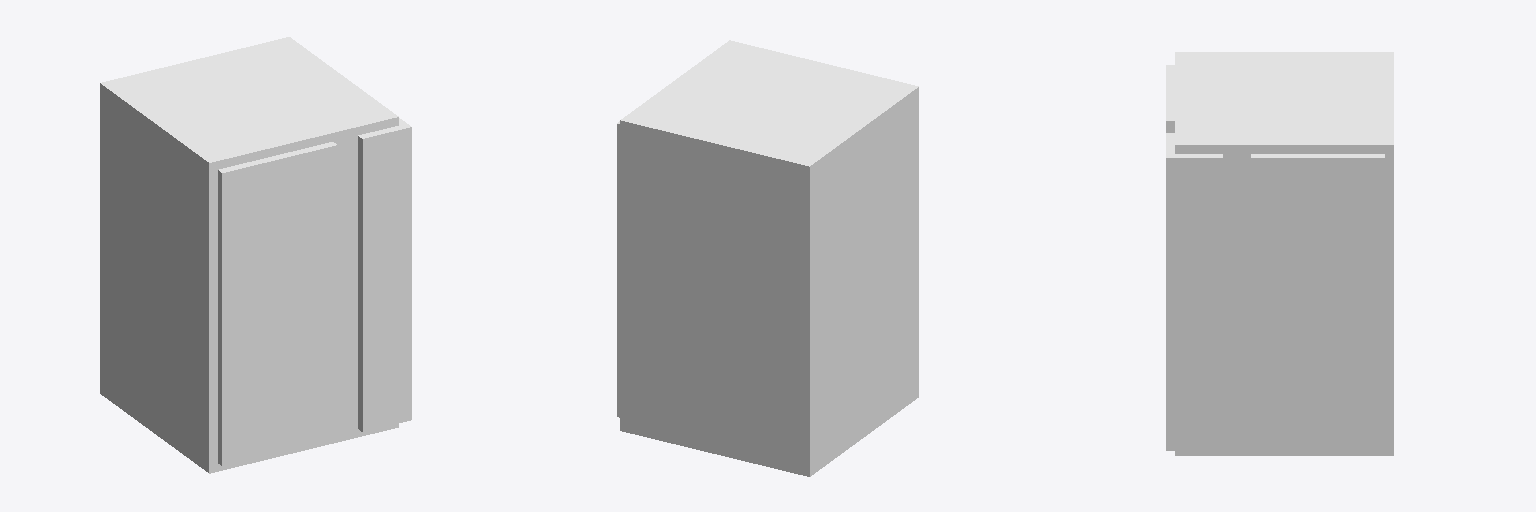
The model's file is fenetre-9.obj.
The picture shows the model from 3 angles: view 1: azimuth 30°, elevation 25°; view 2: azimuth 150°, elevation 25°; view 3: azimuth 270°, elevation 25°; orthographic projection.
Visible parts, largest first — view 1: object 1; view 2: object 1; view 3: object 1.
Part boxes in pixels (bbox=[...]): object 1: bbox=[100, 37, 411, 473]; object 1: bbox=[617, 40, 918, 476]; object 1: bbox=[1166, 52, 1393, 455].
Bounding box in the file's own units: 2.4 × 3.6 × 2.4.